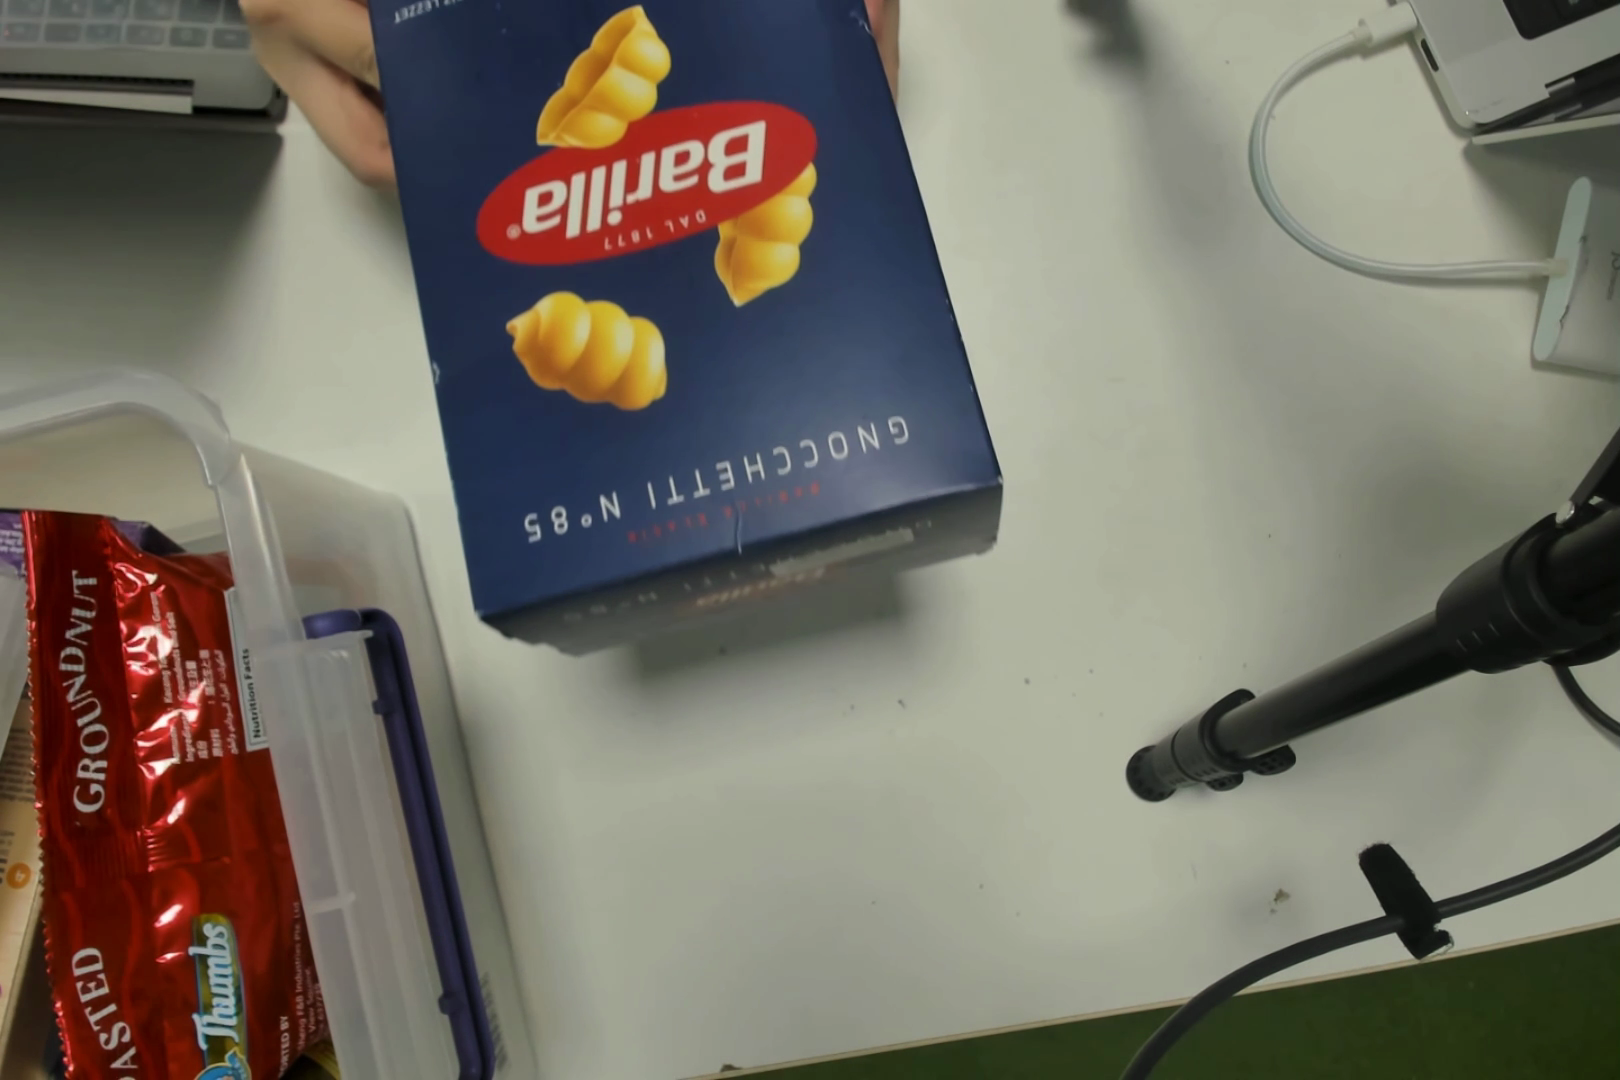Pasta_500-599g_NonHalal_NonHealthy: (424, 8, 950, 610)
